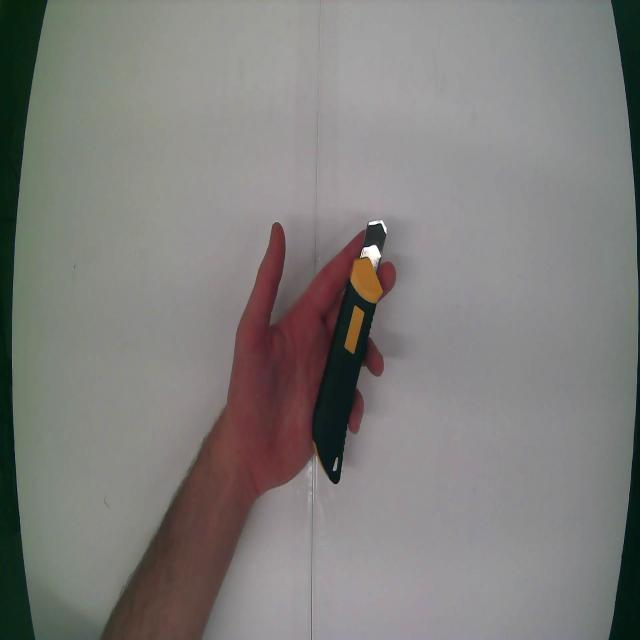estilete: (312, 221, 386, 483)
